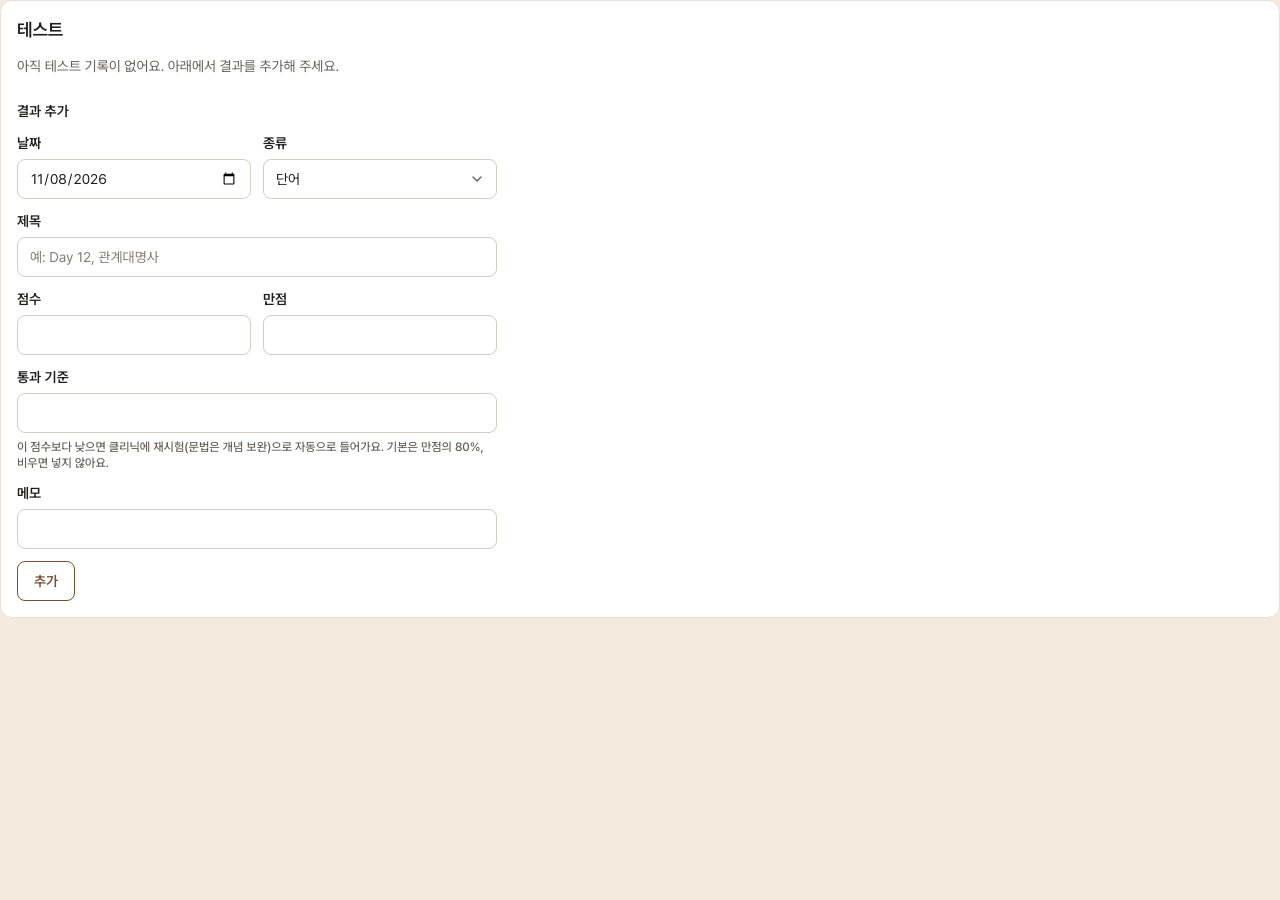
Test: StudentTestsTab › adds a result
Expected: the text "아직 테스트 기록이 없어요. 아래에서 결과를 추가해 주세요." is shown, [17,58,339,74]
Select "문법" in the dropdown labelled "종류" at point(380, 179), box [263,159,497,199]
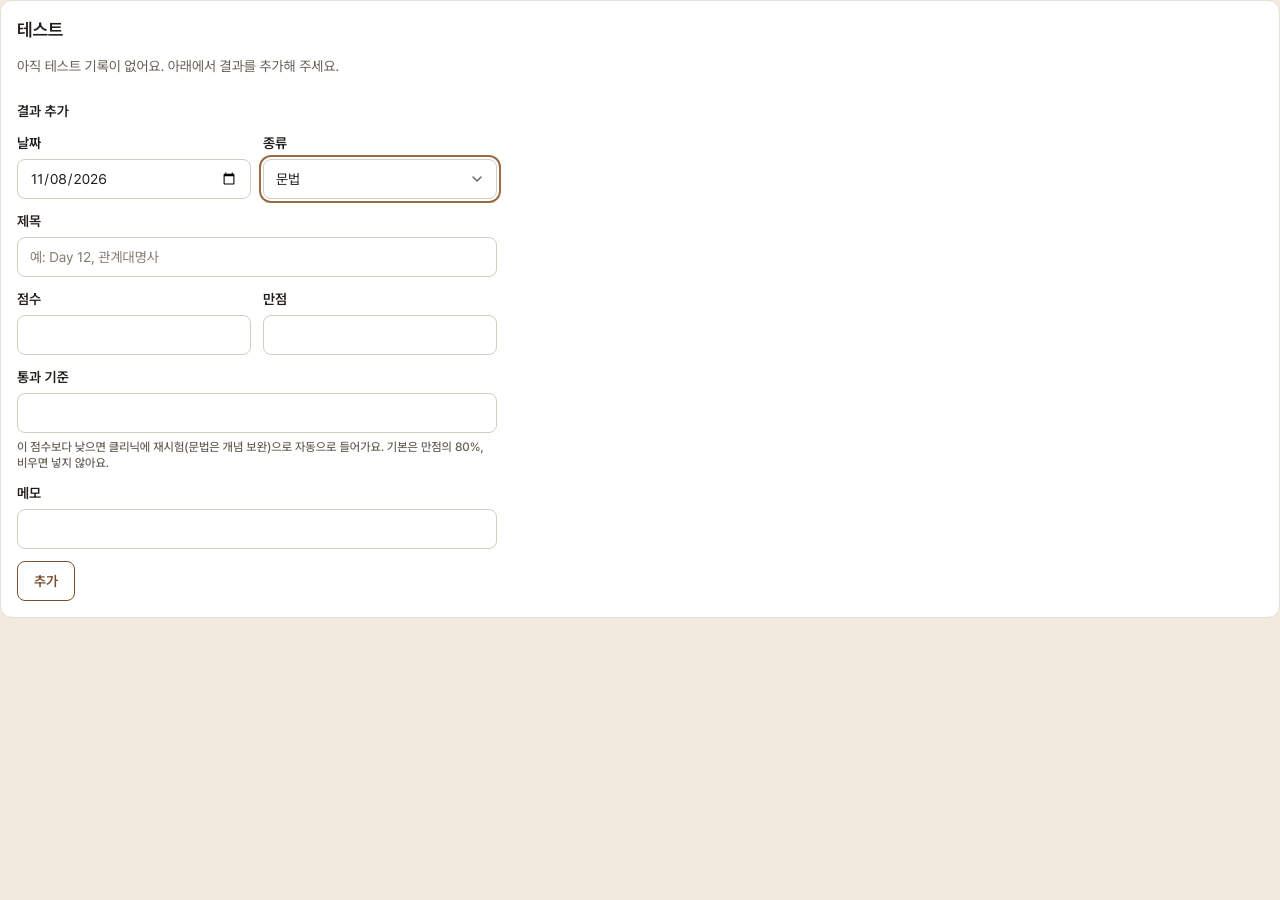
Type "시제" into the field labelled "제목".
click(257, 257); type("시제")  # box [17,237,497,277]
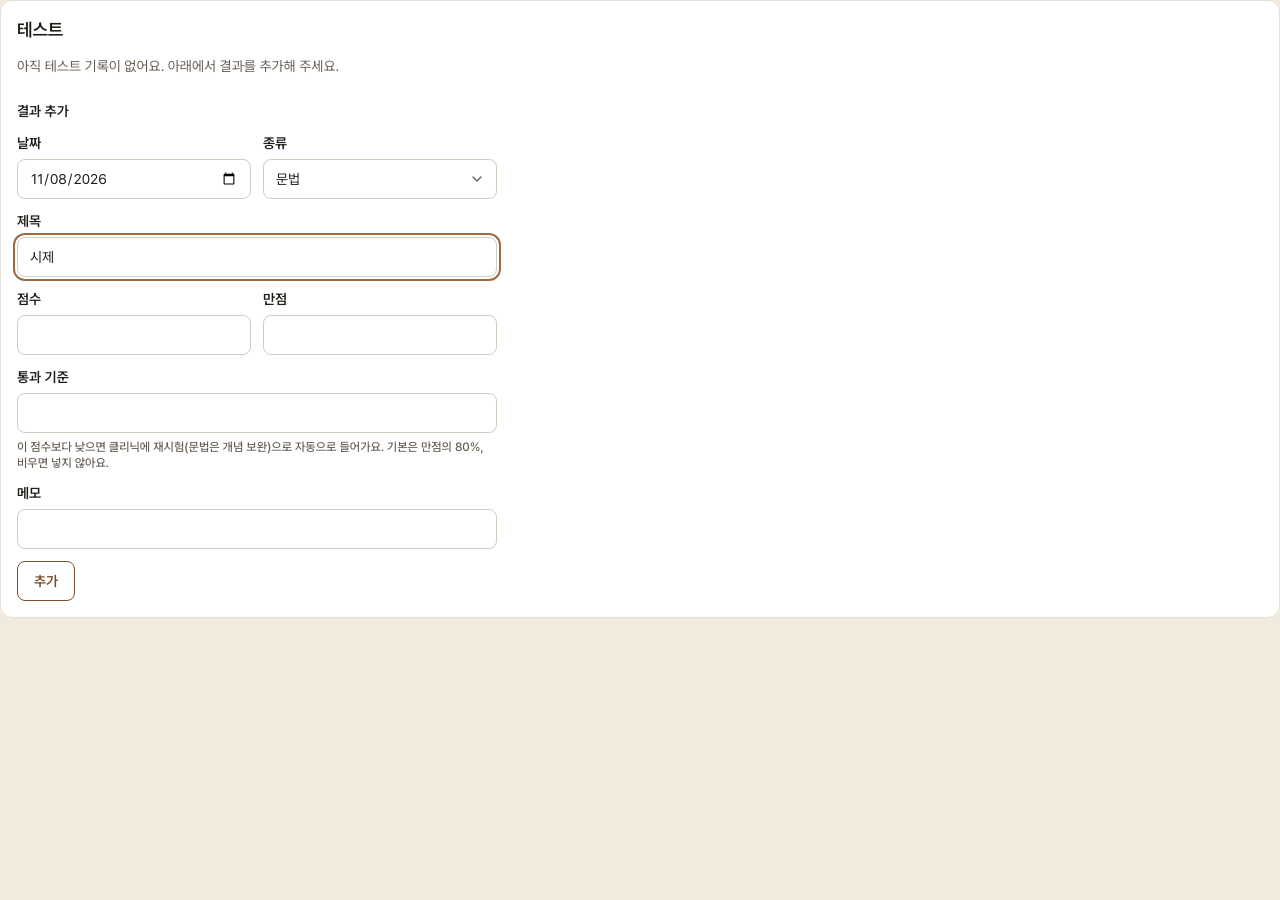
Type "7" into the field labelled "점수".
click(134, 335); type("7")  # box [17,315,251,355]
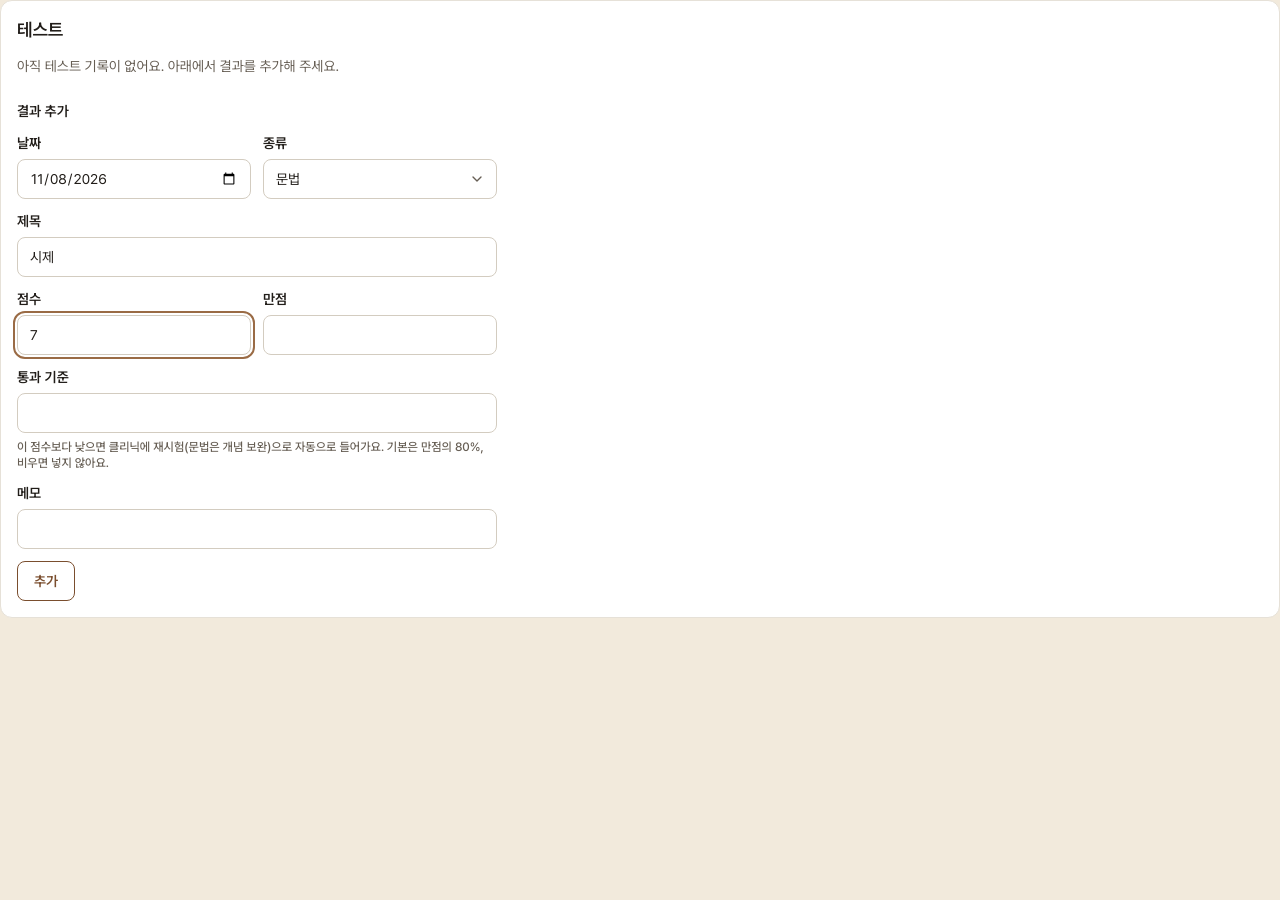
Type "10" into the field labelled "만점".
click(380, 335); type("10")  # box [263,315,497,355]
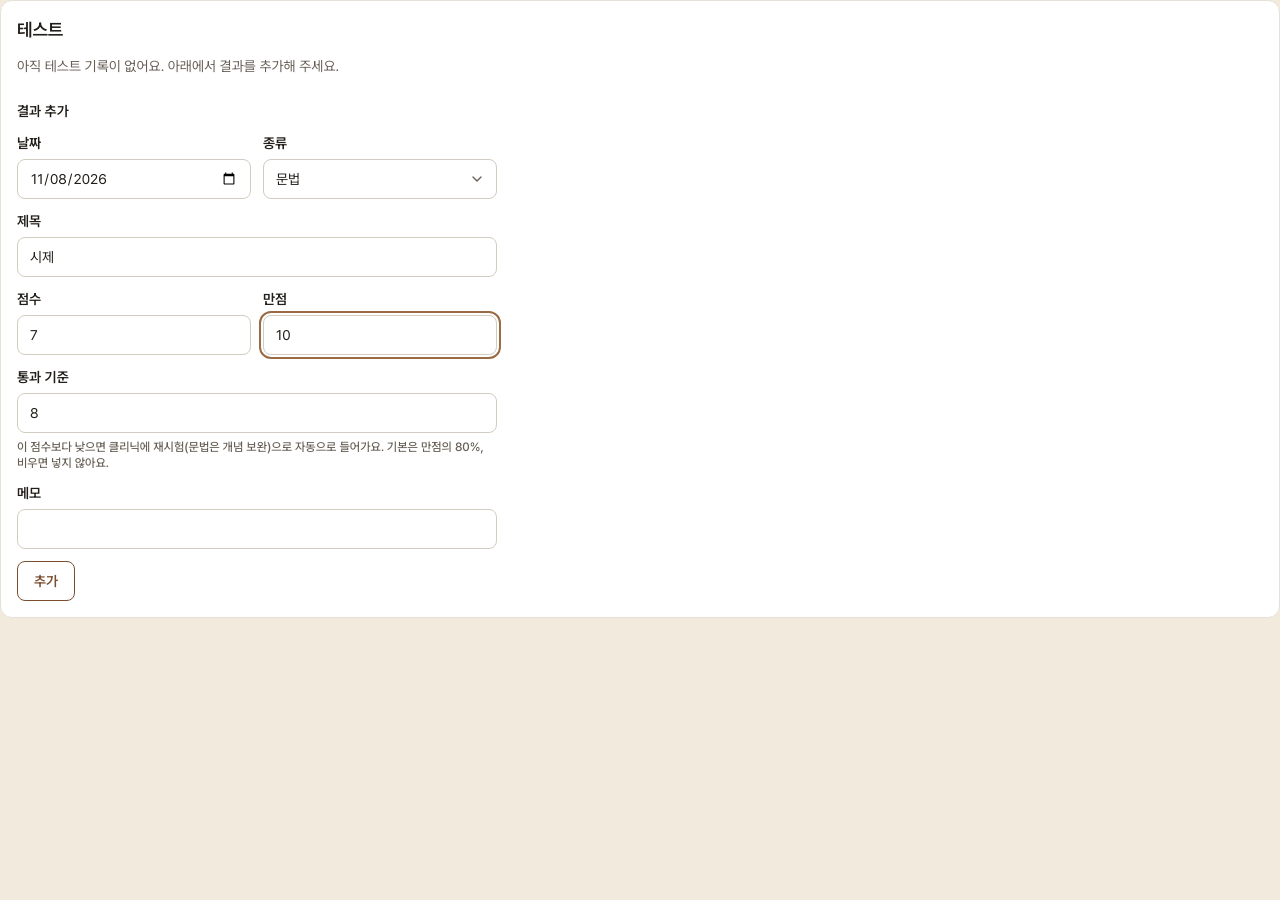
Click the button "추가".
click(46, 581)  # box [17,561,75,601]
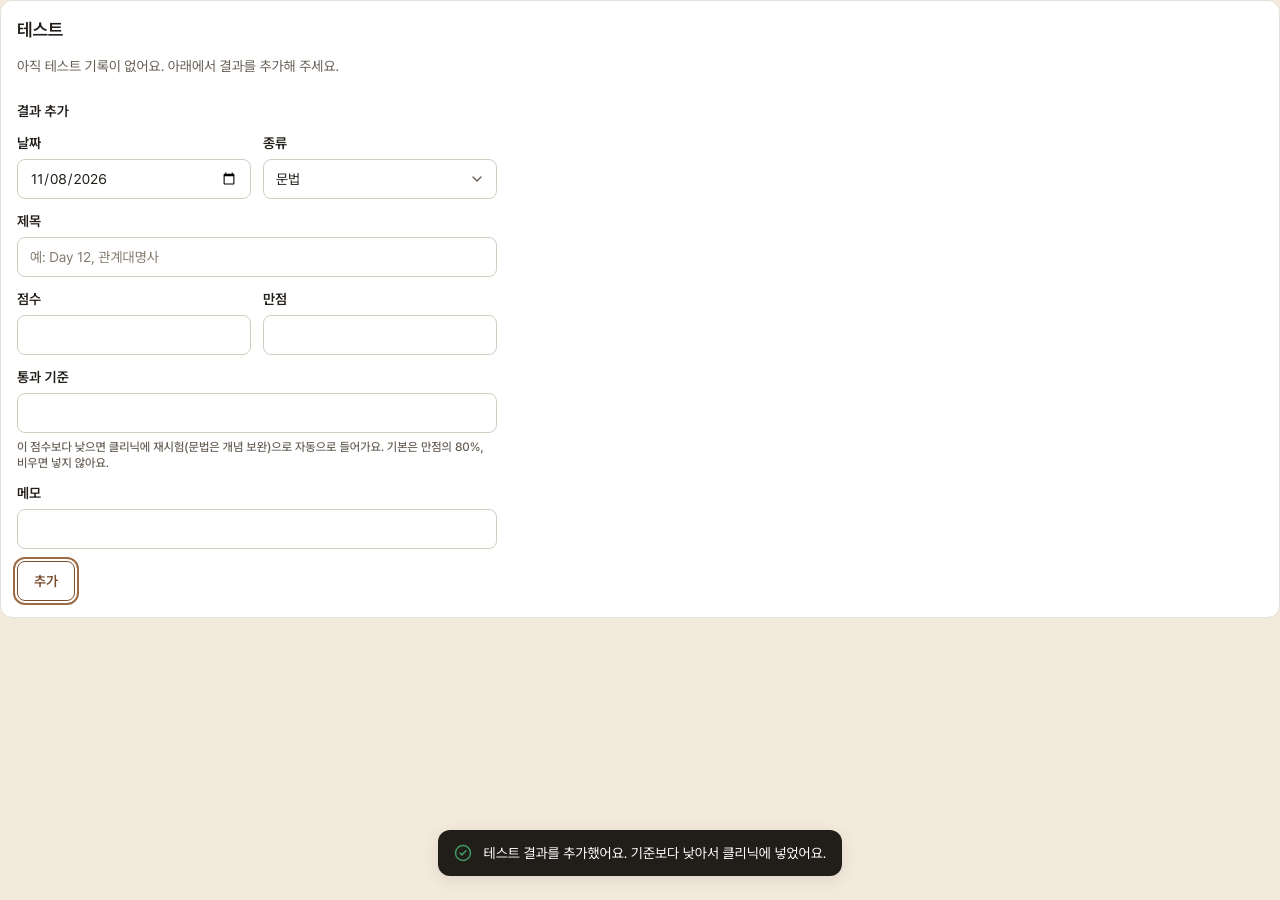
Now the text "테스트 결과를 추가했어요. 기준보다 낮아서 클리닉에 넣었어요." is shown, box [484,842,826,864]
